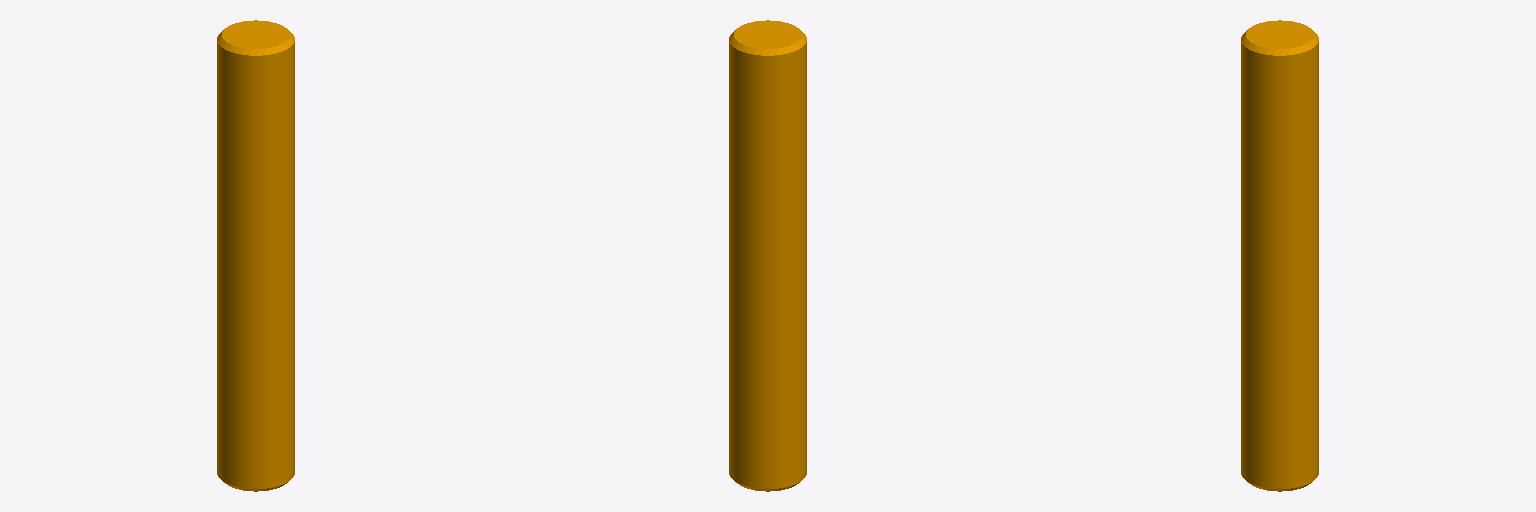
URDF robot description (industreal_round_peg_8mm):
<?xml version="1.0"?>
<robot name="industreal_round_peg_8mm">
    <link name="industreal_round_peg_8mm">
        <visual>
            <geometry>
                <mesh filename="../mesh/industreal_pegs/industreal_round_peg_8mm.obj"/>
            </geometry>
        </visual>
        <collision>
            <geometry>
                <mesh filename="../mesh/industreal_pegs/industreal_round_peg_8mm.obj"/>
            </geometry>
            <sdf resolution="256"/>
        </collision>
    </link>
</robot>

--- Facts derived from the render (not from the file) ---
Views: 3 orthographic renders of the robot side by side, from view 1: azimuth 30°, elevation 25°; view 2: azimuth 150°, elevation 25°; view 3: azimuth 270°, elevation 25°.
Model industreal_round_peg_8mm with 1 links and 0 joints (none), rooted at industreal_round_peg_8mm, posed every joint at zero.
Visible links, largest first — view 1: industreal_round_peg_8mm; view 2: industreal_round_peg_8mm; view 3: industreal_round_peg_8mm.
Link boxes in pixels (box(x1,y1,x2,y2)): industreal_round_peg_8mm: box(217, 20, 294, 491); industreal_round_peg_8mm: box(729, 20, 806, 491); industreal_round_peg_8mm: box(1241, 20, 1318, 491).
Bounding box of the posed robot: 0.008 × 0.008 × 0.05 m (x, y, z).
Meshes: 1 distinct files referenced, 1 mesh visuals loaded (1 OBJ).